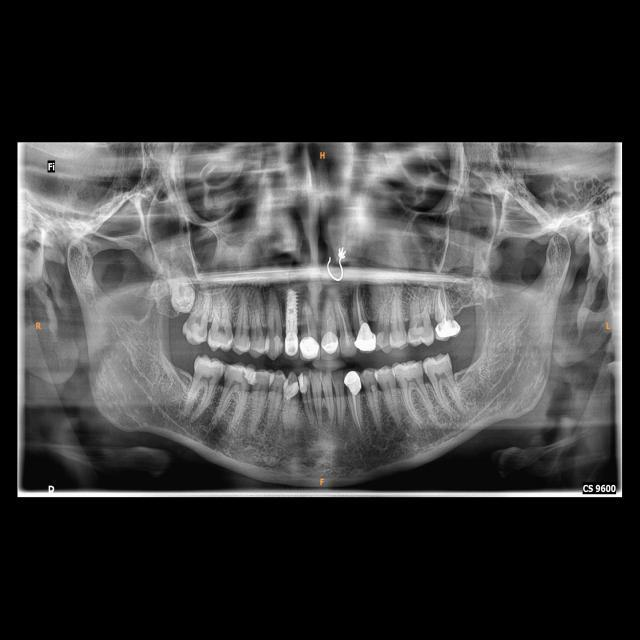implant: (282, 282, 300, 358)
kanal-tedavisi: (335, 302, 353, 349), (350, 284, 369, 328), (432, 288, 455, 322), (346, 390, 363, 429), (301, 299, 317, 338)
kaplama: (356, 321, 378, 356), (432, 319, 462, 341), (298, 335, 320, 363), (319, 330, 342, 356), (342, 368, 360, 396)
